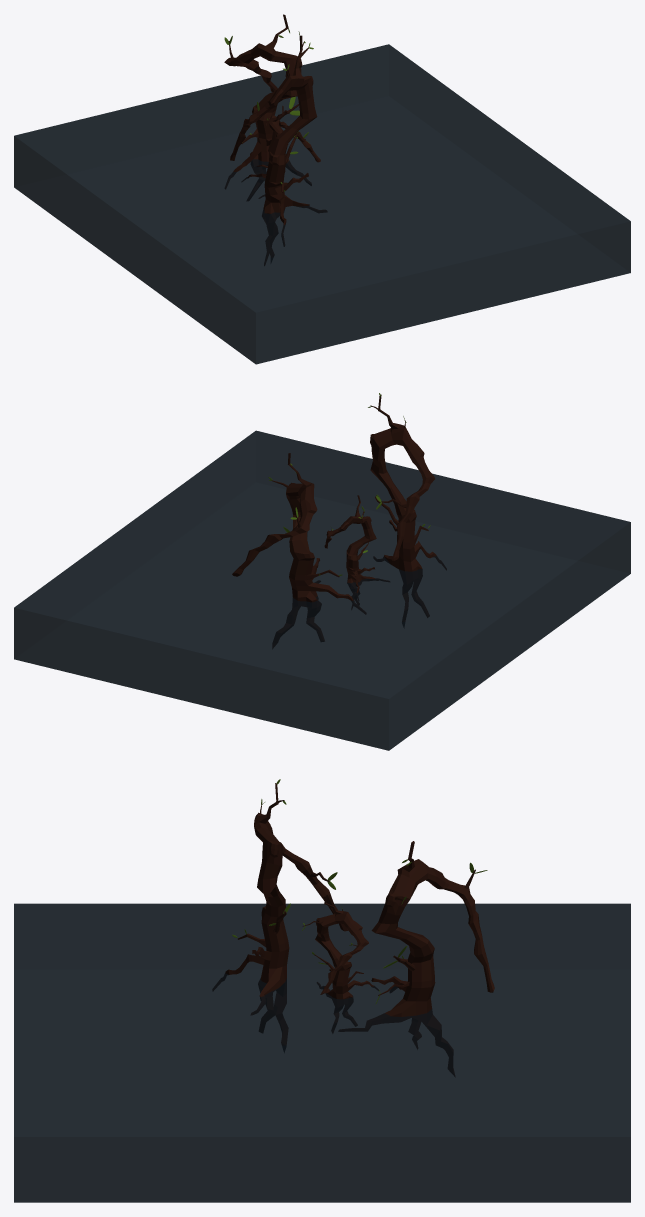
Rendered from Plant scene-back ground trees and water.FBX.
3 renders of one model, top to bottom at view 1: azimuth 30°, elevation 25°; view 2: azimuth 150°, elevation 25°; view 3: azimuth 270°, elevation 25°, orthographic. The views are drawn at different scales.
Parts seen in each view (by area): view 1: Box011, Box013, Box010, Box012; view 2: Box011, Box013, Box010, Box012; view 3: Box011, Box010, Box013, Box012.
Part boxes in pixels (x1,y1,x2,y2): Box011: (14, 44, 630, 364); Box013: (230, 31, 327, 265); Box010: (224, 14, 313, 200); Box012: (242, 28, 320, 198); Box011: (14, 430, 630, 750); Box013: (368, 393, 446, 621); Box010: (232, 453, 366, 648); Box012: (290, 463, 389, 609); Box011: (14, 903, 630, 1202); Box010: (338, 841, 494, 1076); Box013: (212, 779, 348, 1045); Box012: (302, 859, 411, 1033).
Bounding box in the file's own units: 589 × 342 × 658.
